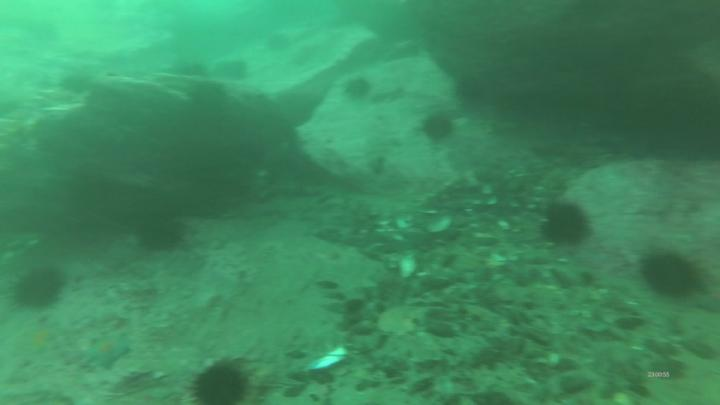echinus: (644, 256, 699, 300), (195, 366, 248, 405), (16, 269, 65, 310), (544, 206, 590, 247), (137, 222, 182, 252), (425, 117, 450, 138), (344, 80, 370, 96)
starfish: (89, 336, 129, 368), (27, 326, 55, 350)
